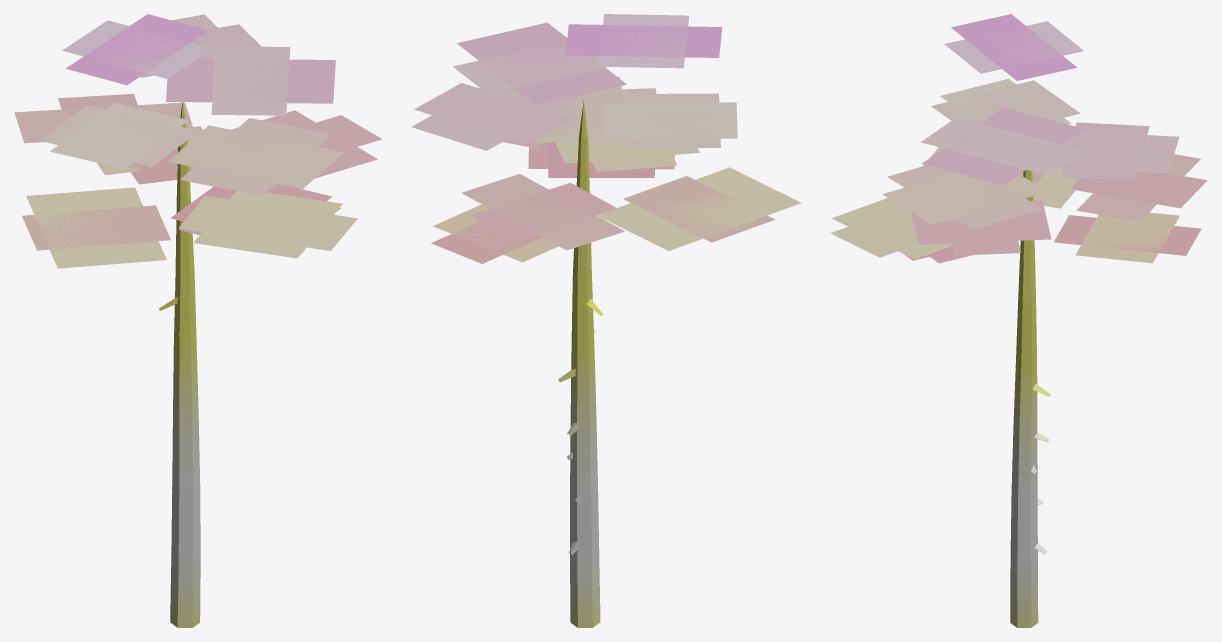
Rendered from tree_pine_1.glb.
3 views of the same model, side by side, from view 1: azimuth 30°, elevation 25°; view 2: azimuth 150°, elevation 25°; view 3: azimuth 270°, elevation 25° (orthographic). The views are drawn at different scales.
Parts seen in each view (by area): view 1: tree_pine_1; view 2: tree_pine_1; view 3: tree_pine_1.
Part boxes in pixels (bbox=[...]): tree_pine_1: bbox=[14, 14, 381, 627]; tree_pine_1: bbox=[411, 14, 801, 627]; tree_pine_1: bbox=[830, 14, 1207, 627].
Bounding box in the file's own units: 6.51 × 11.04 × 6.86.
